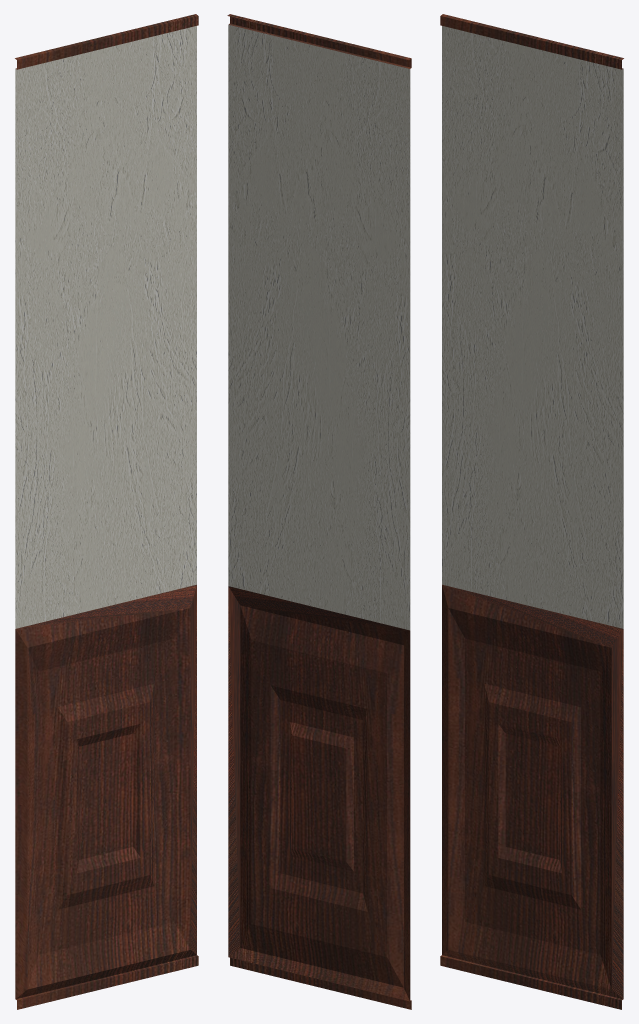
Rendered from Wall.fbx.
The picture shows the model from 3 angles, left to right: view 1: azimuth 30°, elevation 25°; view 2: azimuth 150°, elevation 25°; view 3: azimuth 330°, elevation 25°; orthographic projection.
Visible parts, largest first — view 1: WallPaper, Wood; view 2: WallPaper, Wood; view 3: WallPaper, Wood.
Part boxes in pixels (<box>): WallPaper: <box>15,26,196,628</box>; Wood: <box>15,14,198,1009</box>; WallPaper: <box>228,24,410,630</box>; Wood: <box>227,14,411,1009</box>; WallPaper: <box>442,26,623,628</box>; Wood: <box>440,14,623,1009</box>.
Size of the model in its own units: 200 by 1000 by 7.34.
